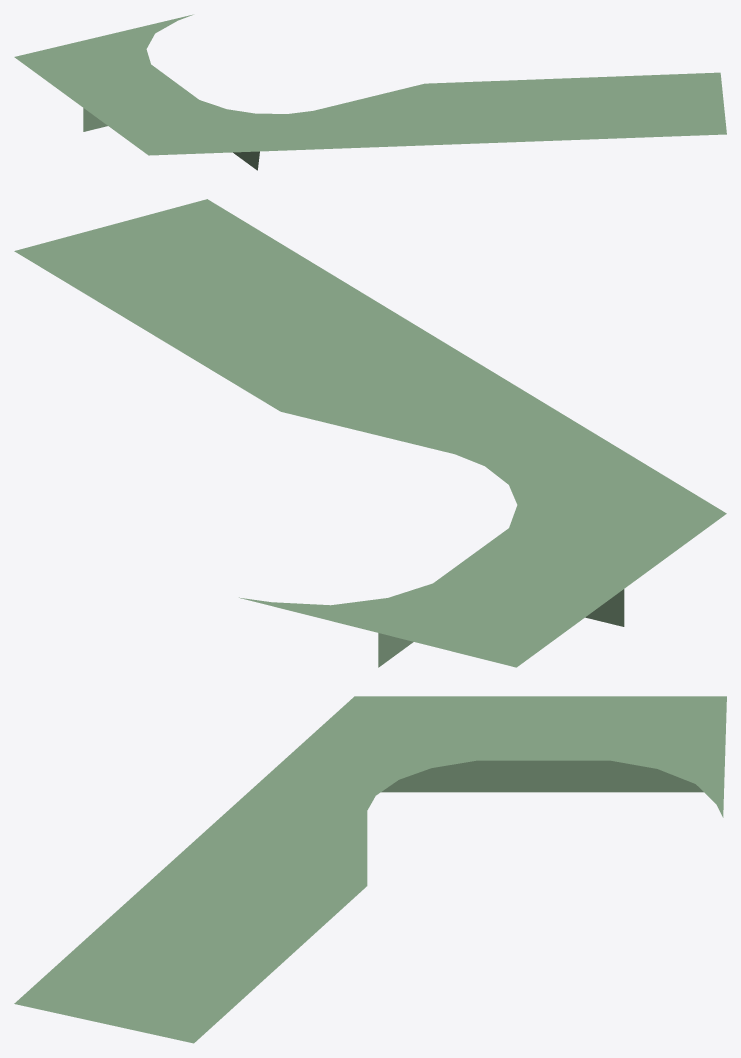
File: NO_1_DIESEL_OIL_TK_SB.glb
3 views of the same model, one above another, from view 1: azimuth 30°, elevation 25°; view 2: azimuth 150°, elevation 25°; view 3: azimuth 270°, elevation 25° (orthographic). The views are drawn at different scales.
Parts seen in each view (by area): view 1: PL_OuterShellBracketxEPRS_001001-12_NVA_1993, ST_OuterShellBracketxEPRS_002001-FB_125x12_NVA32_1993, ST_OuterShellBracketxEPRS_001001-FB_125x12_NVA32_1993; view 2: PL_OuterShellBracketxEPRS_001001-12_NVA_1993, ST_OuterShellBracketxEPRS_002001-FB_125x12_NVA32_1993; view 3: PL_OuterShellBracketxEPRS_001001-12_NVA_1993, ST_OuterShellBracketxEPRS_001001-FB_125x12_NVA32_1993.
Part boxes in pixels (x1=…): PL_OuterShellBracketxEPRS_001001-12_NVA_1993: x1=14, y1=14, x2=726, y2=155; ST_OuterShellBracketxEPRS_002001-FB_125x12_NVA32_1993: x1=83, y1=108, x2=107, y2=131; ST_OuterShellBracketxEPRS_001001-FB_125x12_NVA32_1993: x1=233, y1=151, x2=259, y2=170; PL_OuterShellBracketxEPRS_001001-12_NVA_1993: x1=14, y1=199, x2=726, y2=667; ST_OuterShellBracketxEPRS_002001-FB_125x12_NVA32_1993: x1=585, y1=589, x2=624, y2=626; PL_OuterShellBracketxEPRS_001001-12_NVA_1993: x1=14, y1=696, x2=726, y2=1043; ST_OuterShellBracketxEPRS_001001-FB_125x12_NVA32_1993: x1=381, y1=760, x2=703, y2=792.
Bounding box in the file's own units: 2.73 × 0.125 × 2.37.
